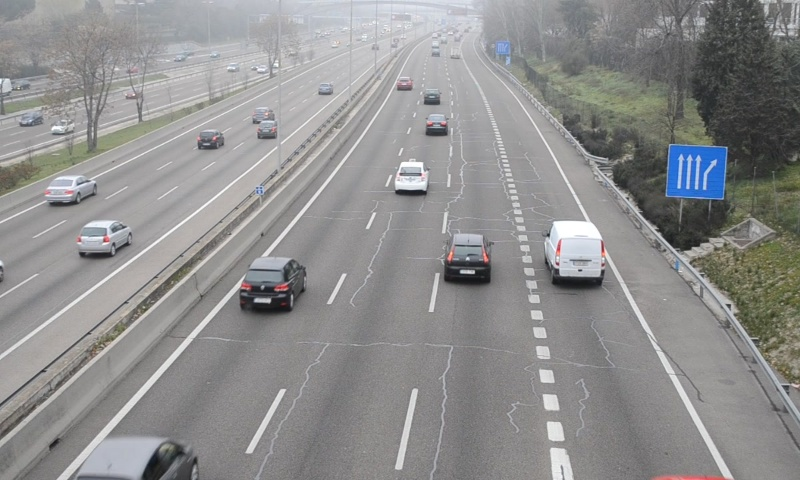car: (238, 258, 306, 309), (444, 234, 490, 280), (394, 160, 427, 194), (424, 113, 449, 137), (422, 86, 441, 105), (396, 74, 410, 90)
van: (546, 220, 606, 286)
